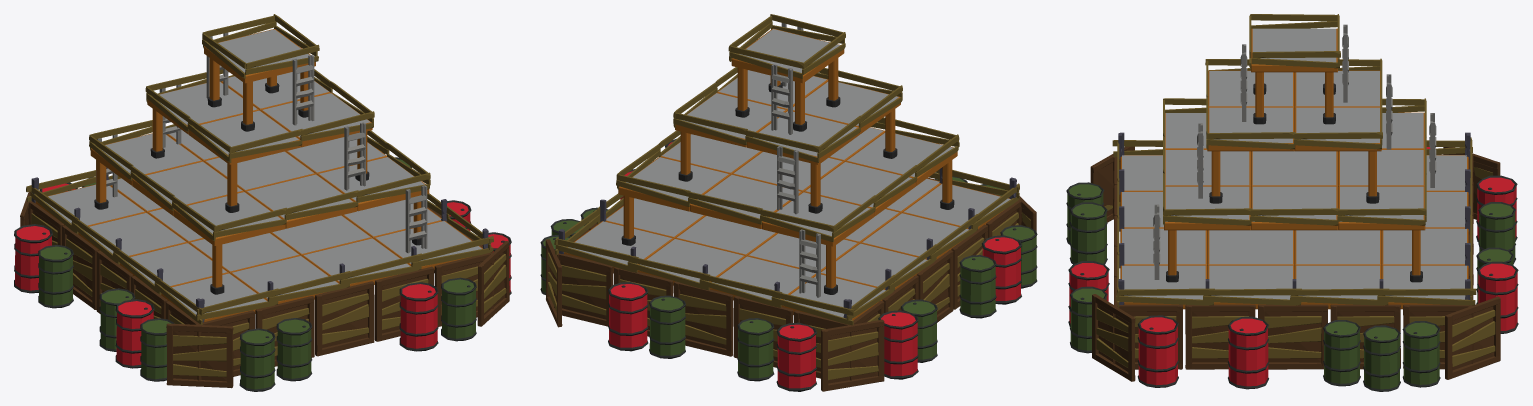
File: BigBunkerSeperatedPartsOneMaterial.fbx
The picture shows the model from 3 angles, left to right: view 1: azimuth 30°, elevation 25°; view 2: azimuth 150°, elevation 25°; view 3: azimuth 270°, elevation 25°; orthographic projection. The views are drawn at different scales.
Visible parts, largest first — view 1: BigBunker.203, BigBunker.156, BigBunker.248, BigBunker.252, BigBunker.243, BigBunker.258, BigBunker.028, BigBunker.251, BigBunker.253, BigBunker.256, BigBunker.027, BigBunker.024 (+63 smaller); view 2: BigBunker.193, BigBunker.075, BigBunker.063, BigBunker.252, BigBunker.221, BigBunker.219, BigBunker.258, BigBunker.247, BigBunker.251, BigBunker.027, BigBunker.250, BigBunker.255 (+66 smaller); view 3: BigBunker.004, BigBunker.186, BigBunker.035, BigBunker.021, BigBunker.023, BigBunker.249, BigBunker.258, BigBunker.246, BigBunker.250, BigBunker.030, BigBunker.180, BigBunker.213 (+69 smaller).
Boxes of the visible parts, x1,y1,x2,y2 form: BigBunker.203: (166, 323, 233, 388); BigBunker.156: (315, 281, 374, 356); BigBunker.248: (245, 174, 357, 228); BigBunker.252: (132, 161, 243, 215); BigBunker.243: (399, 282, 438, 351); BigBunker.258: (204, 29, 315, 83); BigBunker.028: (78, 212, 187, 256); BigBunker.251: (173, 191, 285, 245); BigBunker.253: (90, 133, 202, 185); BigBunker.256: (188, 110, 300, 164); BigBunker.027: (119, 242, 228, 286); BigBunker.024: (230, 255, 339, 303); BigBunker.193: (821, 319, 884, 391); BigBunker.075: (673, 281, 733, 356); BigBunker.063: (554, 253, 613, 326); BigBunker.252: (804, 161, 916, 215); BigBunker.221: (776, 322, 816, 391); BigBunker.219: (608, 282, 648, 351); BigBunker.258: (731, 28, 844, 83); BigBunker.247: (618, 157, 730, 211); BigBunker.251: (845, 132, 957, 185); BigBunker.027: (860, 213, 968, 259); BigBunker.250: (690, 174, 802, 228); BigBunker.255: (675, 93, 787, 147); BigBunker.004: (1258, 304, 1328, 369); BigBunker.186: (1445, 296, 1500, 379); BigBunker.035: (1185, 304, 1255, 369); BigBunker.021: (1207, 230, 1294, 265); BigBunker.023: (1294, 230, 1381, 265); BigBunker.249: (1251, 151, 1337, 186); BigBunker.258: (1251, 28, 1337, 72); BigBunker.246: (1251, 186, 1337, 230); BigBunker.250: (1338, 149, 1424, 186); BigBunker.030: (1381, 228, 1468, 265); BigBunker.180: (1092, 294, 1135, 381); BigBunker.213: (1228, 316, 1268, 389).
Size of the model in its own units: 15.96 by 10.01 by 15.71.
Materials: 1 (1 with a texture image).
